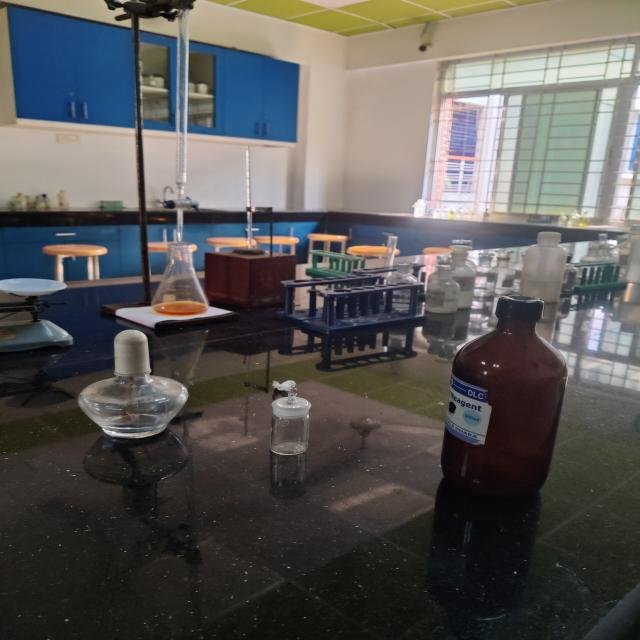Nessler_Reagent_Bottle: (436, 284, 583, 507)
Spirit_Lamp: (71, 319, 207, 445)
Weighing_Bottle: (251, 368, 336, 473)
